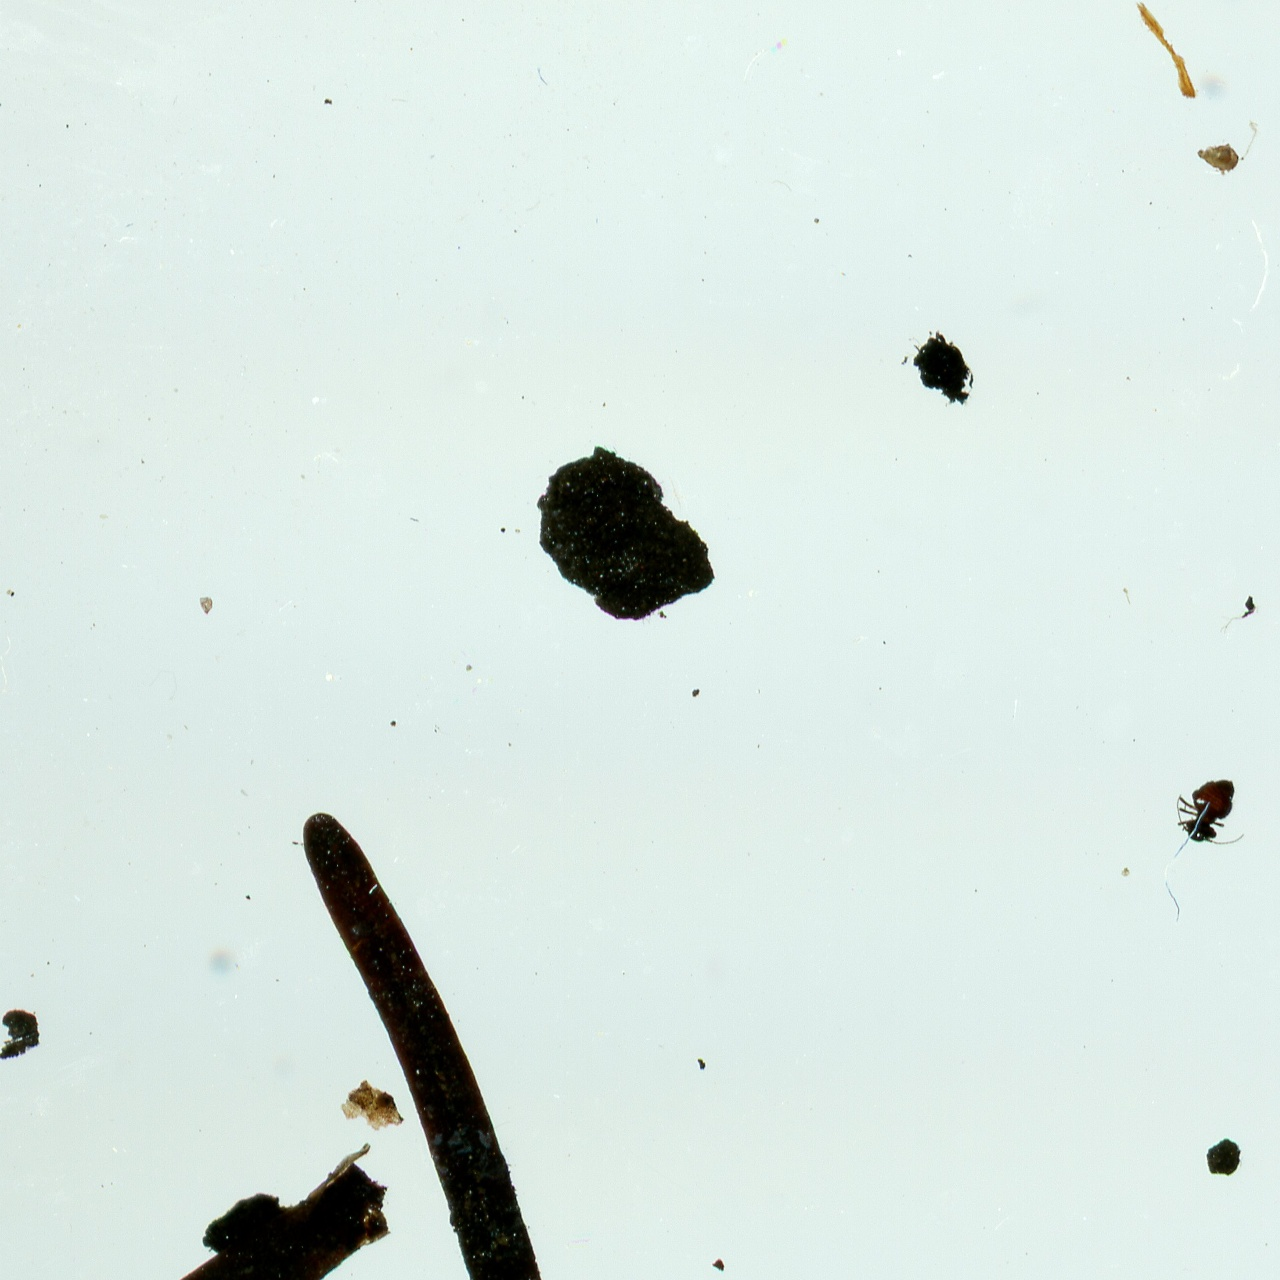arthropod: (1172, 777, 1248, 851)
